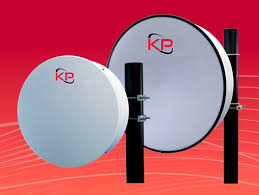ba: (98, 6, 235, 165), (14, 46, 129, 174)
